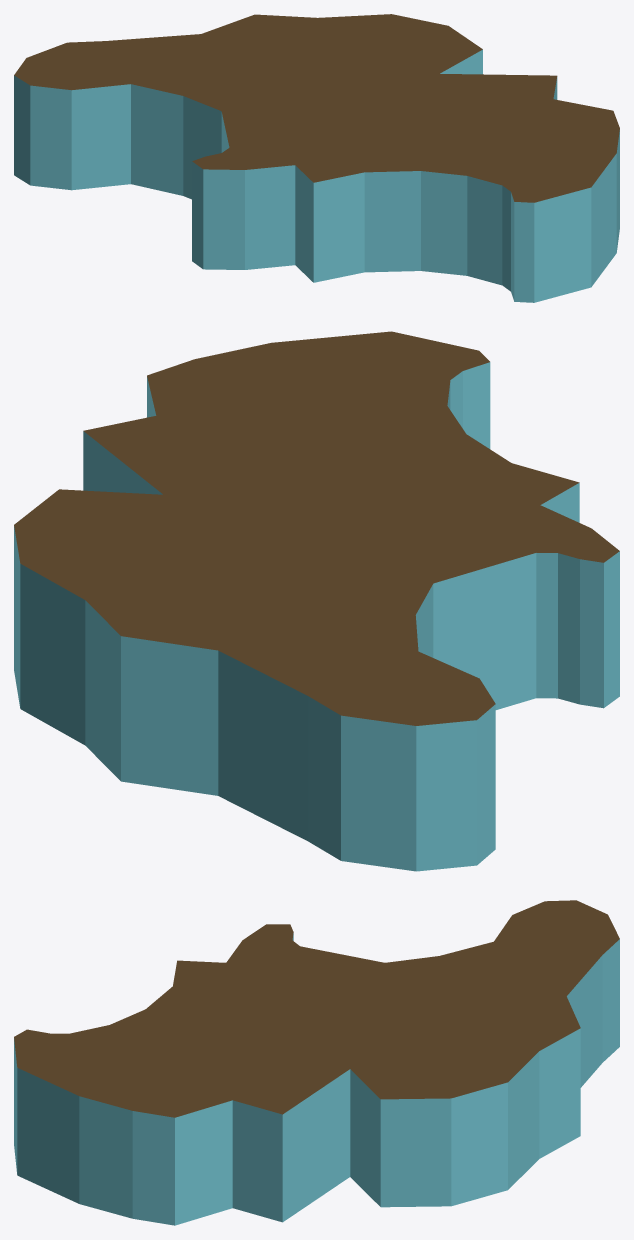
Rendered from island.glb.
The picture shows the model from 3 angles, top to bottom: view 1: azimuth 30°, elevation 25°; view 2: azimuth 150°, elevation 25°; view 3: azimuth 270°, elevation 25°; orthographic projection. The views are drawn at different scales.
Parts seen in each view (by area): view 1: Plane; view 2: Plane; view 3: Plane.
Part boxes in pixels (box(x1,y1,x2,y2)): Plane: box(14, 14, 619, 302); Plane: box(14, 331, 619, 871); Plane: box(14, 900, 619, 1225).
Bounding box in the file's own units: 8.65 × 2 × 10.18.
